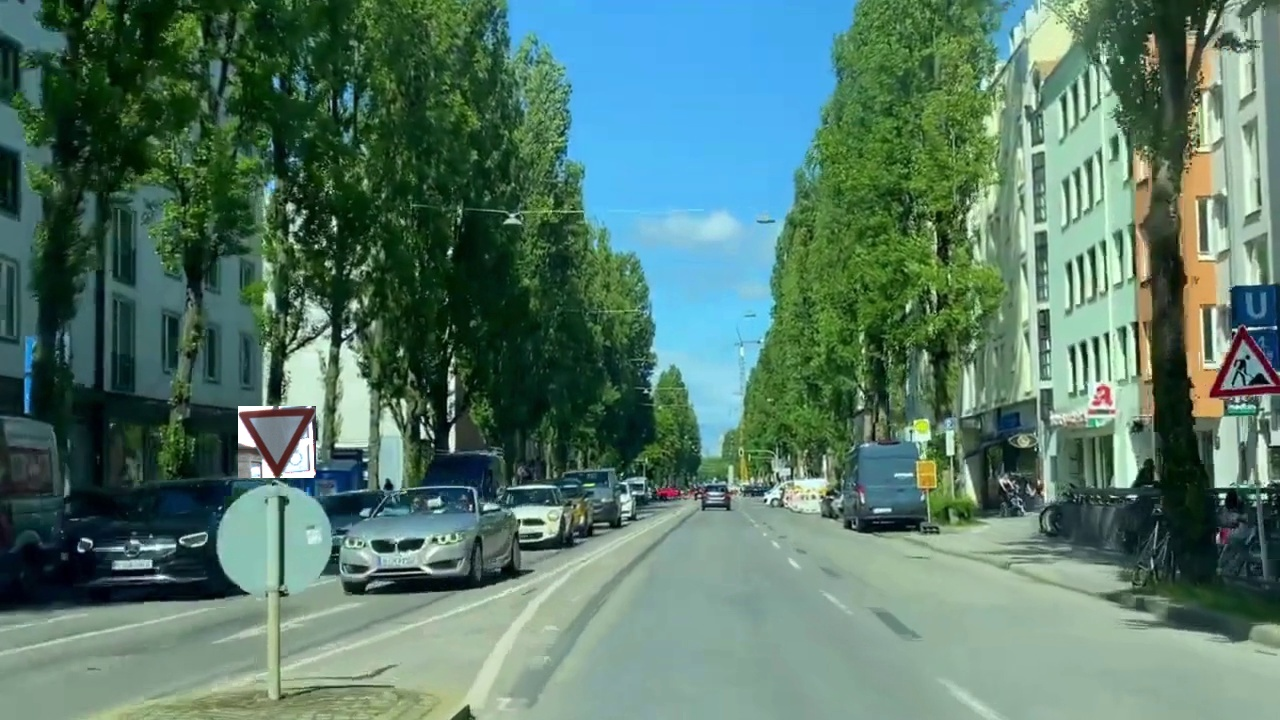Yield: (238, 406, 316, 478)
